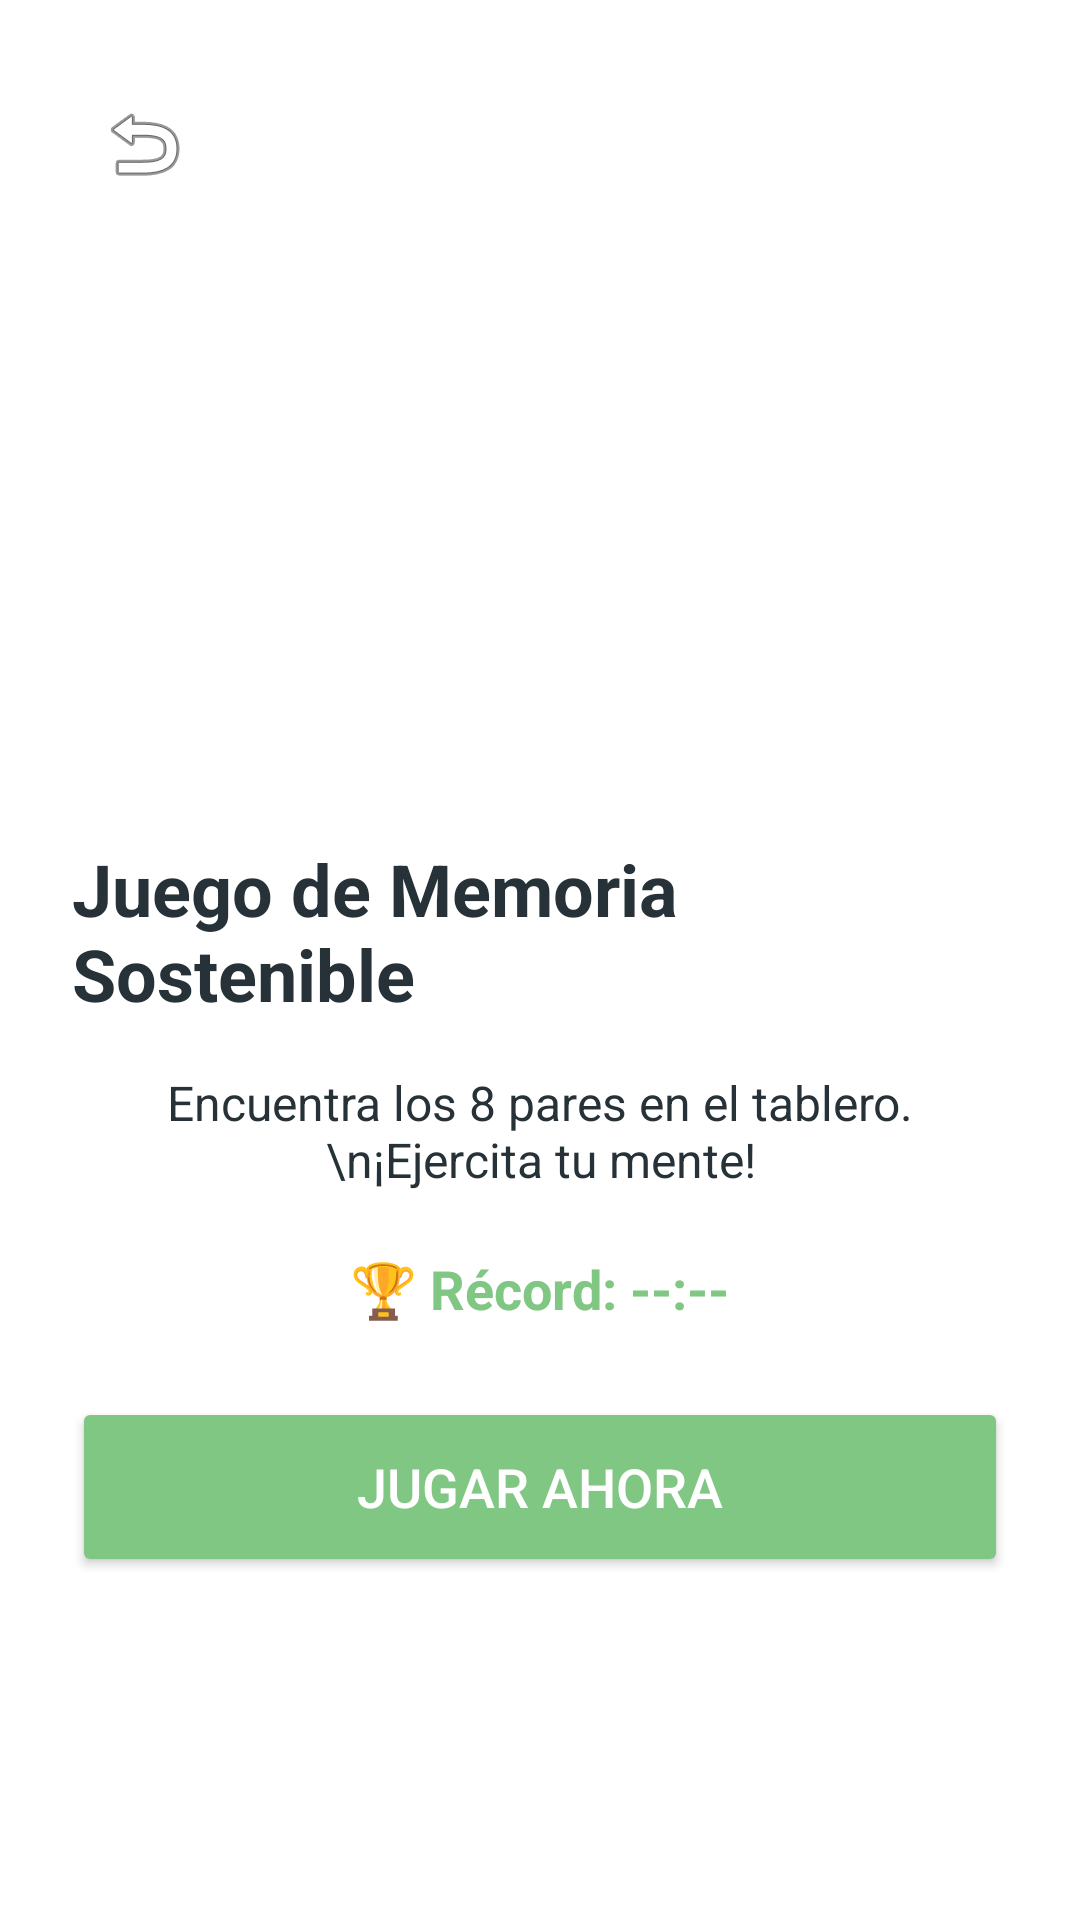

Icons on this 1080px x 1920px Android screen, each with its box as (x1, y1, x2, y2):
Regresar al menú: (111, 113, 180, 176)
